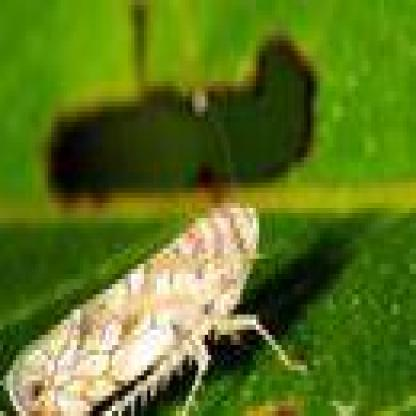Green-Leafhopper: (5, 200, 310, 416)
